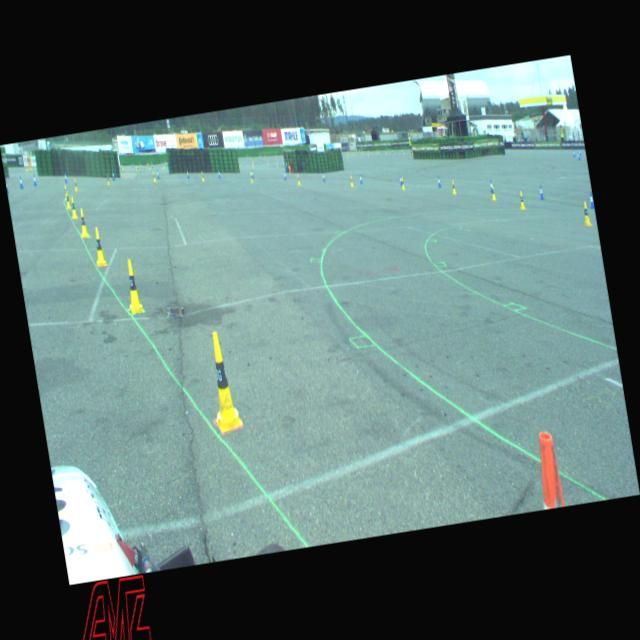blue_cone: (588, 192, 594, 210), (538, 184, 544, 200), (18, 175, 24, 188), (32, 174, 38, 187), (5, 179, 9, 194), (438, 175, 442, 188), (398, 174, 402, 186), (488, 180, 492, 192), (64, 172, 68, 183), (359, 173, 363, 184), (322, 171, 326, 182), (156, 170, 160, 178), (572, 149, 576, 157), (112, 170, 115, 180), (218, 169, 221, 179), (187, 170, 190, 178), (251, 170, 254, 178), (284, 170, 286, 180), (578, 152, 580, 160)
yellow_cone: (202, 330, 244, 432), (121, 258, 144, 314), (91, 226, 108, 266), (78, 208, 89, 239), (581, 200, 592, 227), (69, 196, 78, 219), (518, 191, 526, 210), (64, 190, 71, 208), (64, 184, 70, 200), (491, 184, 496, 200), (74, 178, 78, 192), (452, 180, 456, 194), (349, 176, 354, 187), (106, 173, 110, 186), (200, 170, 204, 182), (400, 178, 404, 190), (152, 171, 156, 182), (250, 172, 254, 183), (297, 174, 301, 185)
